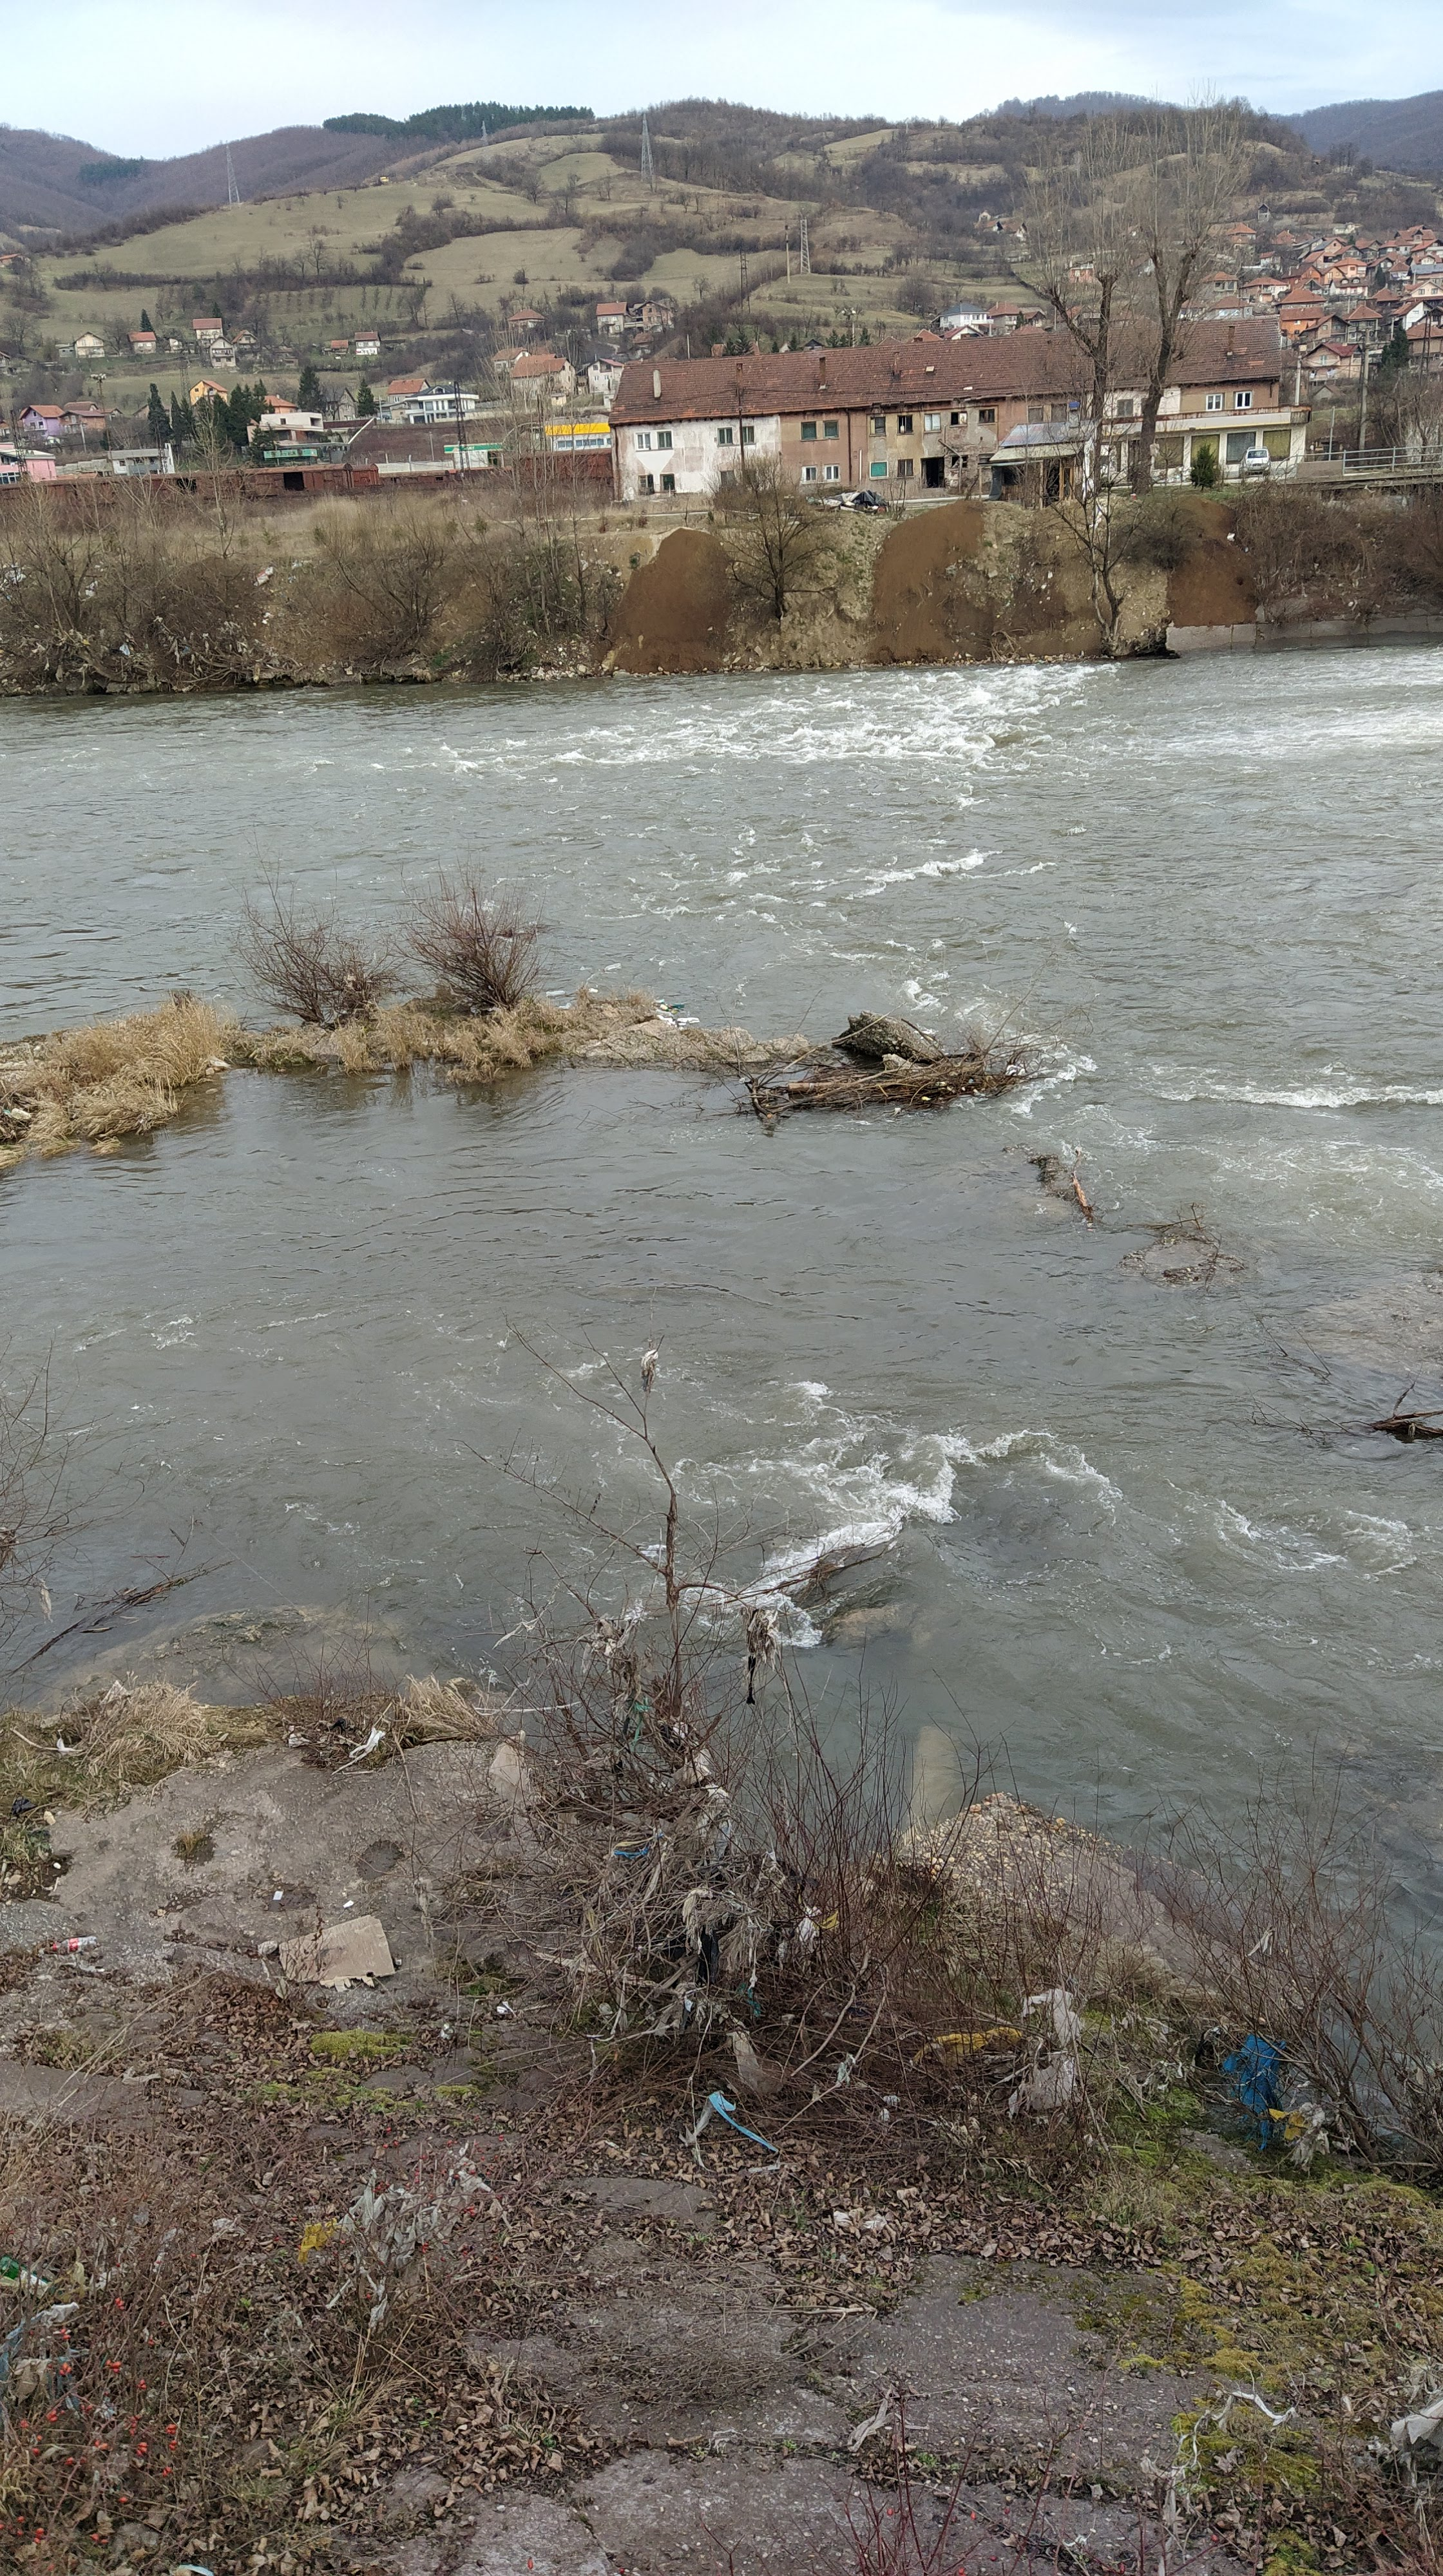Plastic Bottle: (604, 961, 621, 971), (547, 989, 567, 996), (671, 1001, 683, 1008), (660, 1003, 671, 1010)
